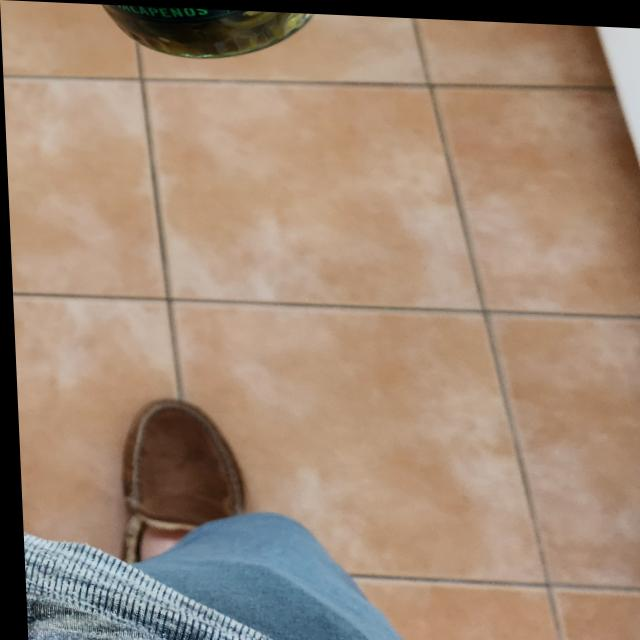jalapeno: (53, 2, 327, 62)
